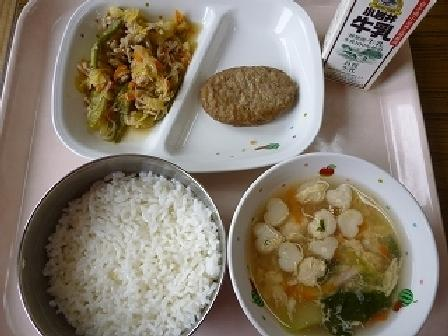Meat: (196, 60, 299, 133)
Milk: (317, 0, 439, 79)
Rice: (5, 151, 220, 333)
Soups: (239, 157, 442, 330)
vegetable based cooked food: (72, 6, 181, 128)
